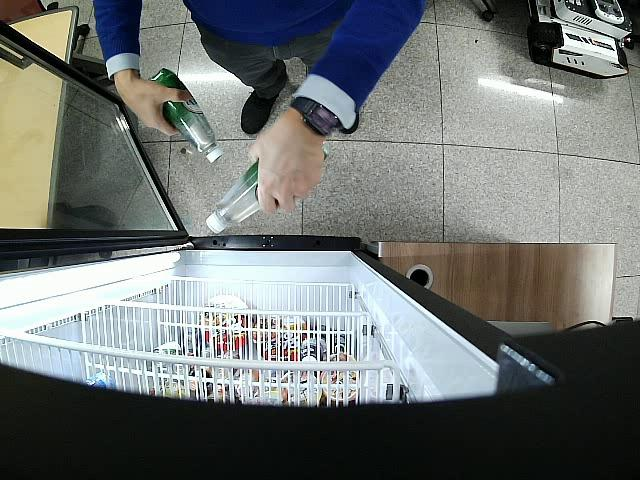00_hand: (247, 135, 324, 214), (113, 77, 191, 137)
18_trevi: (145, 68, 223, 164), (205, 158, 261, 235)
